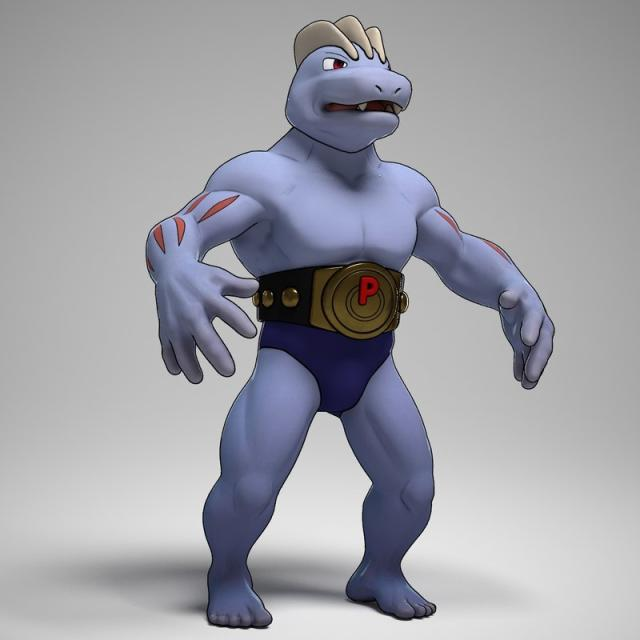Machoke: (166, 0, 494, 512)
